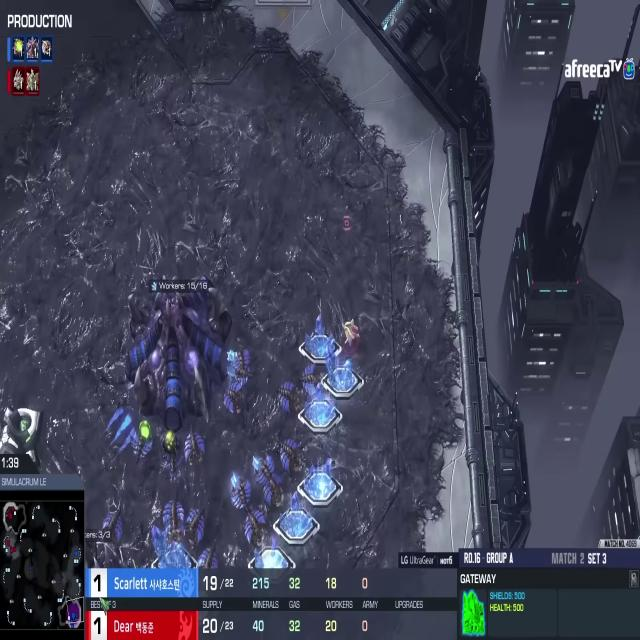drone: (126, 413, 156, 471), (98, 495, 127, 549), (240, 502, 270, 551), (272, 432, 306, 474), (180, 423, 208, 474), (180, 501, 211, 546), (228, 462, 254, 515), (193, 534, 223, 575), (160, 492, 186, 539), (250, 451, 279, 489), (274, 376, 300, 418), (230, 339, 254, 382), (297, 358, 322, 397), (260, 473, 286, 509), (222, 375, 244, 417)
probe: (339, 310, 362, 353)
